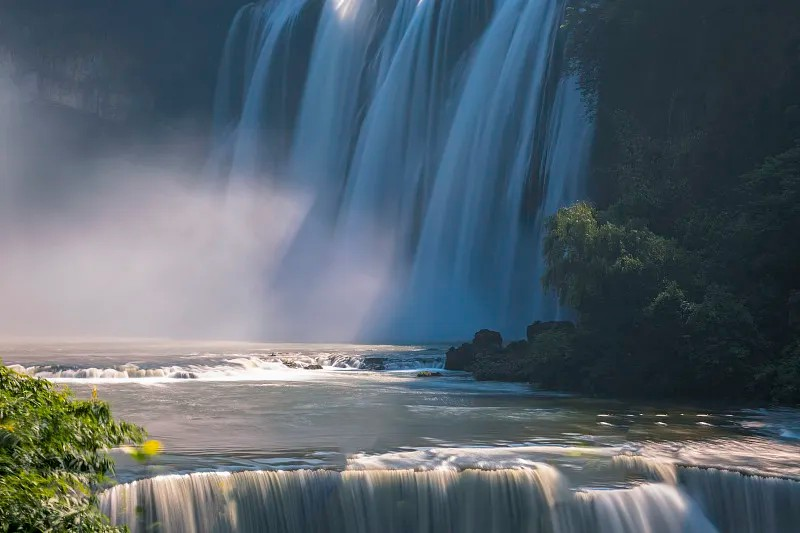Huangguoshu: (210, 1, 597, 342)
